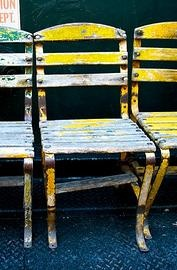obstacle: (34, 23, 155, 247), (0, 28, 33, 247)
